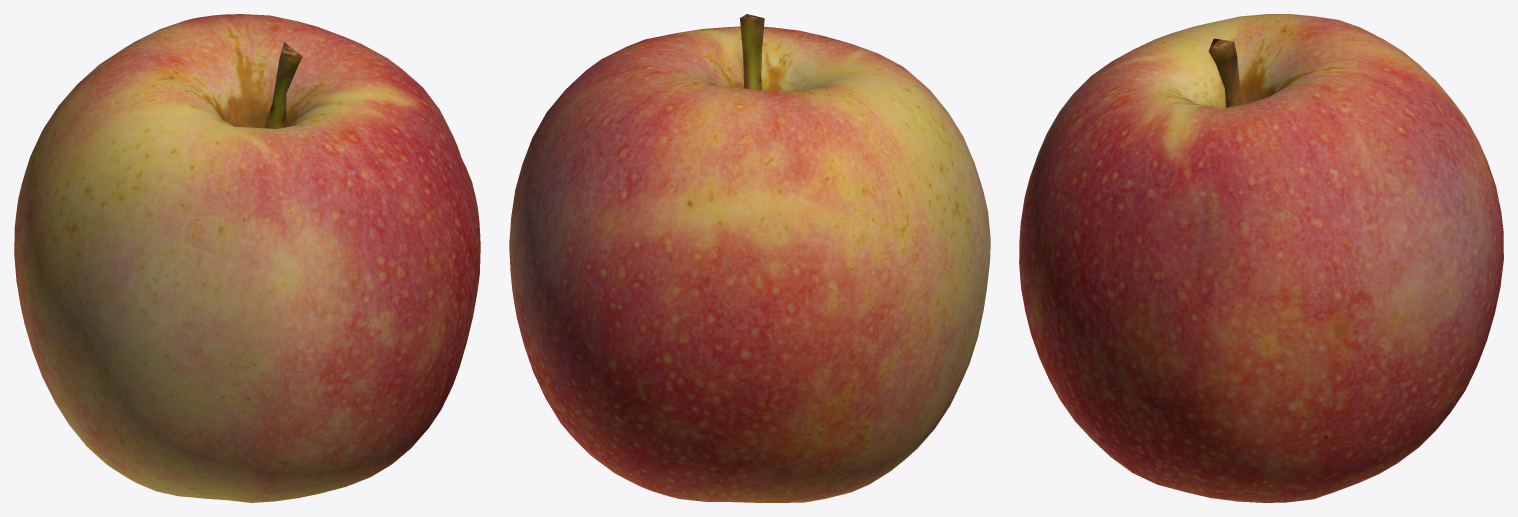
File: apples.obj
3 views of the same model, side by side, from view 1: azimuth 30°, elevation 25°; view 2: azimuth 150°, elevation 25°; view 3: azimuth 270°, elevation 25° (orthographic).
Visible parts, largest first — view 1: Object_2.001; view 2: Object_2.001; view 3: Object_2.001.
Boxes of the visible parts, box(x1,y1,x2,y2) form: Object_2.001: box(14, 14, 480, 502); Object_2.001: box(509, 14, 990, 502); Object_2.001: box(1019, 14, 1503, 502).
Size of the model in its own units: 1.23 by 1.22 by 1.26.
Materials: 1 (1 with a texture image).
